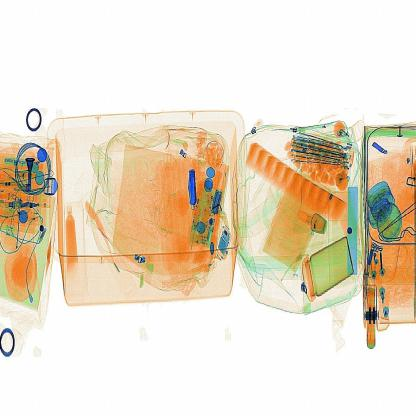knife: (178, 165, 201, 211)
